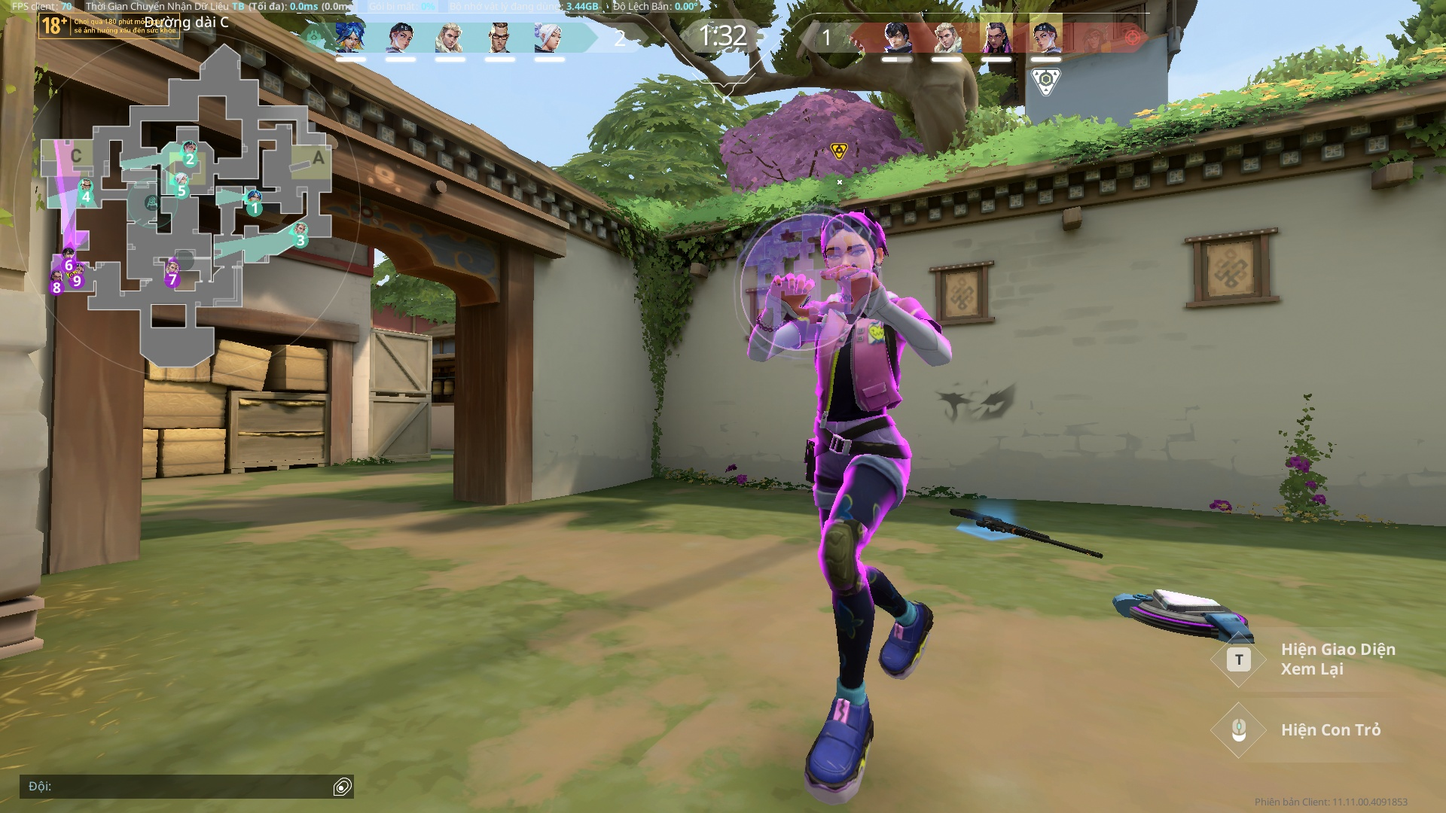body: (806, 288, 914, 409)
head: (816, 208, 892, 285)
